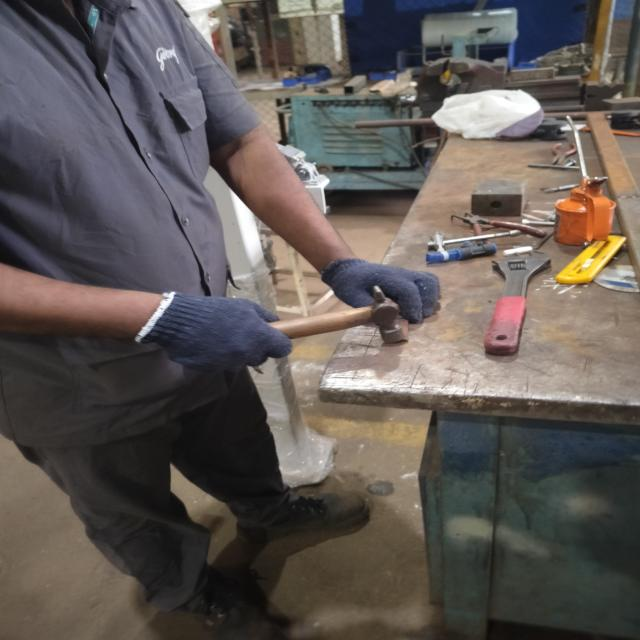Gloves-Detection: (127, 279, 294, 372), (310, 253, 434, 316)
